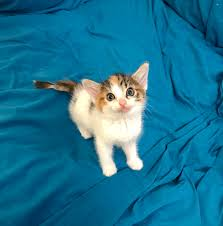cat: (33, 61, 150, 179)
